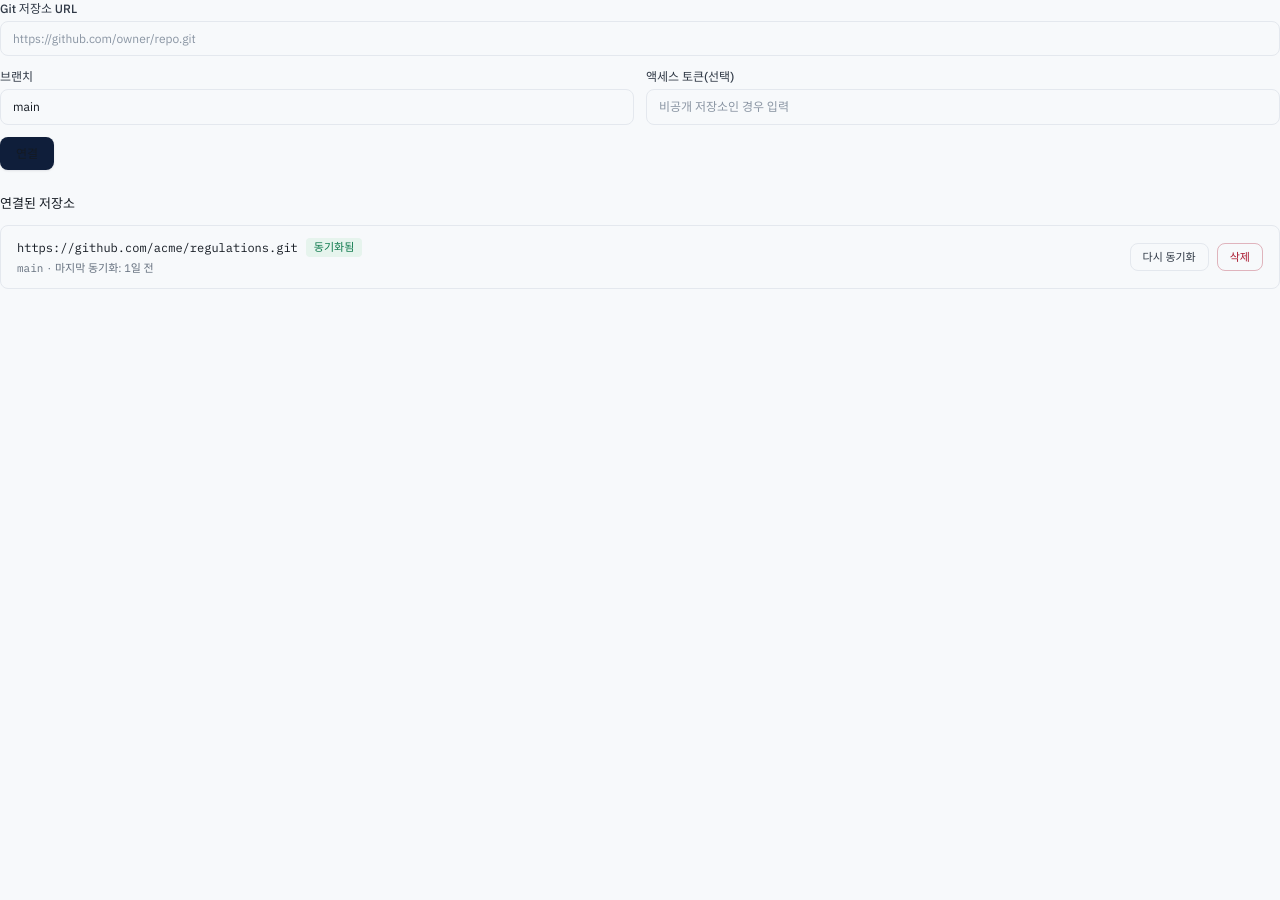
Test: KnowledgeSourcesClient › opens delete confirmation dialog and deletes on confirm
This screenshot has width=1280, height=900.
What coordinates should you click on to do the following:
click the button with test id "ks-delete-src-001"
I would click on:
 (1240, 257)
Its box is [1217,242,1263,271].
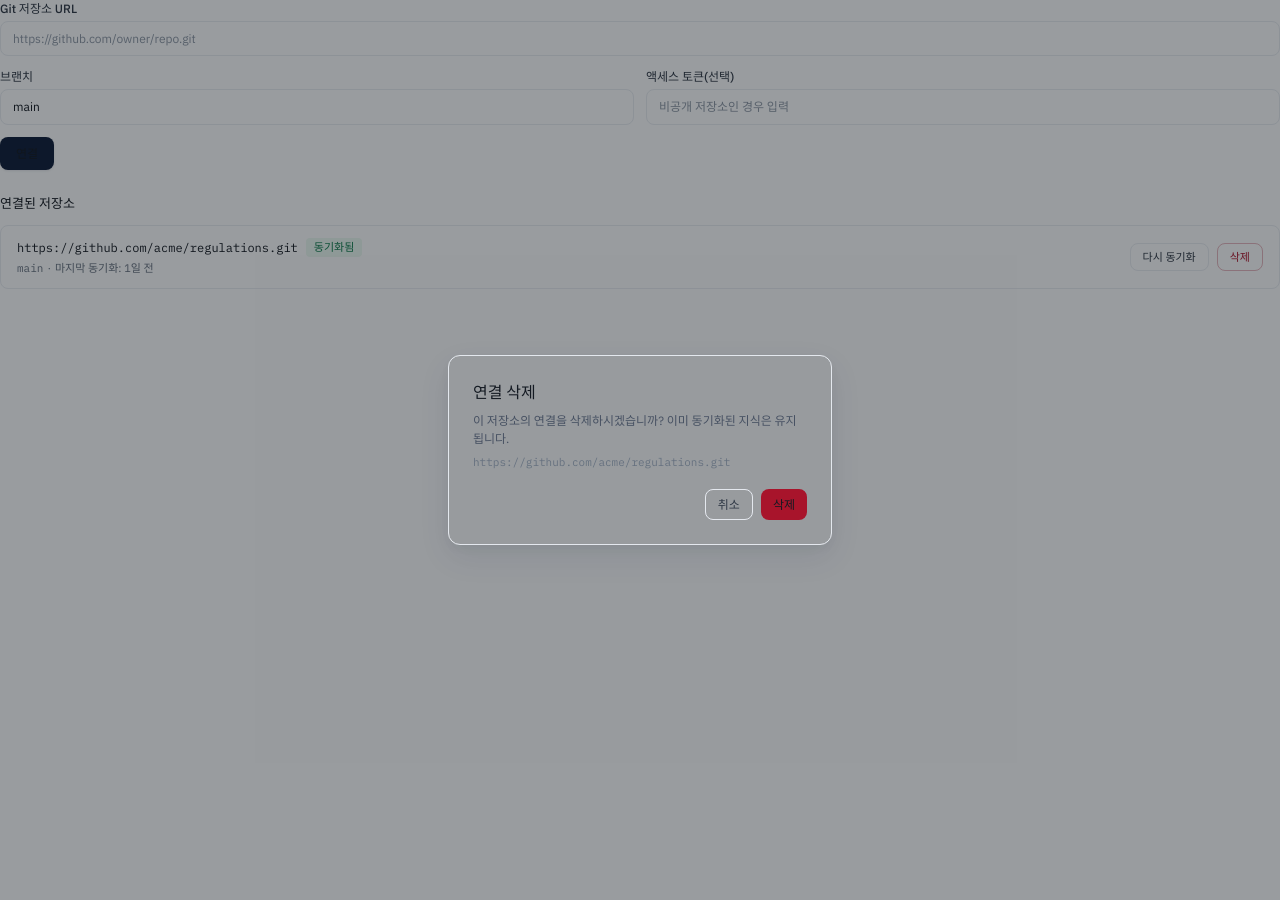
Expected: the dialog with test id "ks-delete-dialog" is shown
Expected: the button with test id "ks-delete-confirm" reads "삭제"
What coordinates should you click on to do the following:
click the button with test id "ks-delete-confirm"
I would click on:
 (784, 505)
Its box is [761,489,807,520].
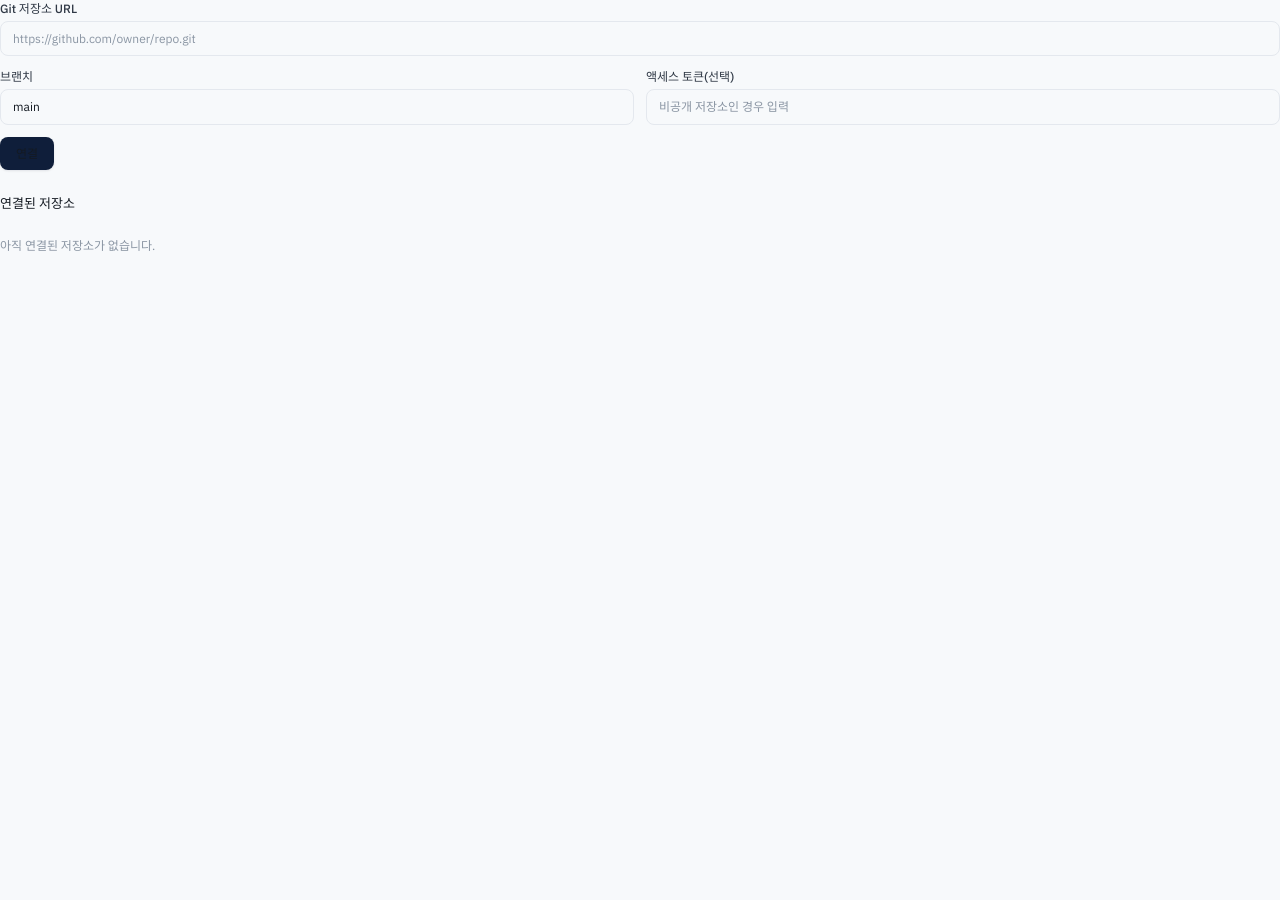
Expected: the list item with test id "ks-row-src-001" is gone
